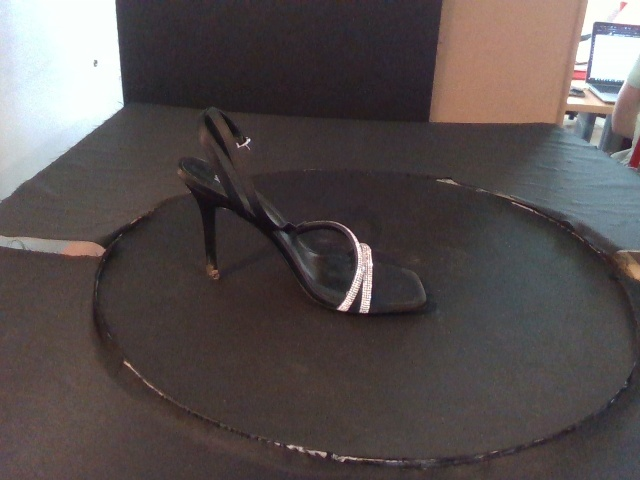shoe: (176, 105, 428, 315)
